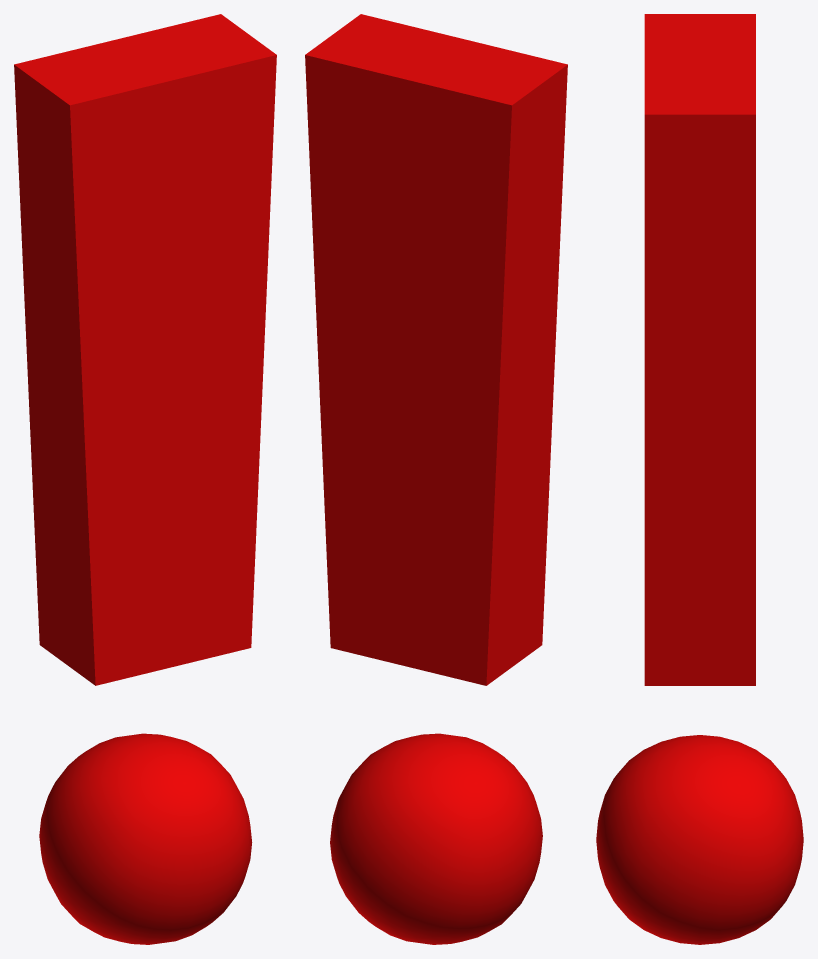
Rendered from objectiveMarker.fbx.
3 views of the same model, side by side, from view 1: azimuth 30°, elevation 25°; view 2: azimuth 150°, elevation 25°; view 3: azimuth 270°, elevation 25° (orthographic).
Visible parts, largest first — view 1: ref37; view 2: ref37; view 3: ref37.
Part boxes in pixels (x1,y1,x2,y2): ref37: (14, 14, 276, 944); ref37: (305, 14, 567, 944); ref37: (596, 14, 803, 944).
Size of the model in its own units: 26.4 by 107 by 23.04.
